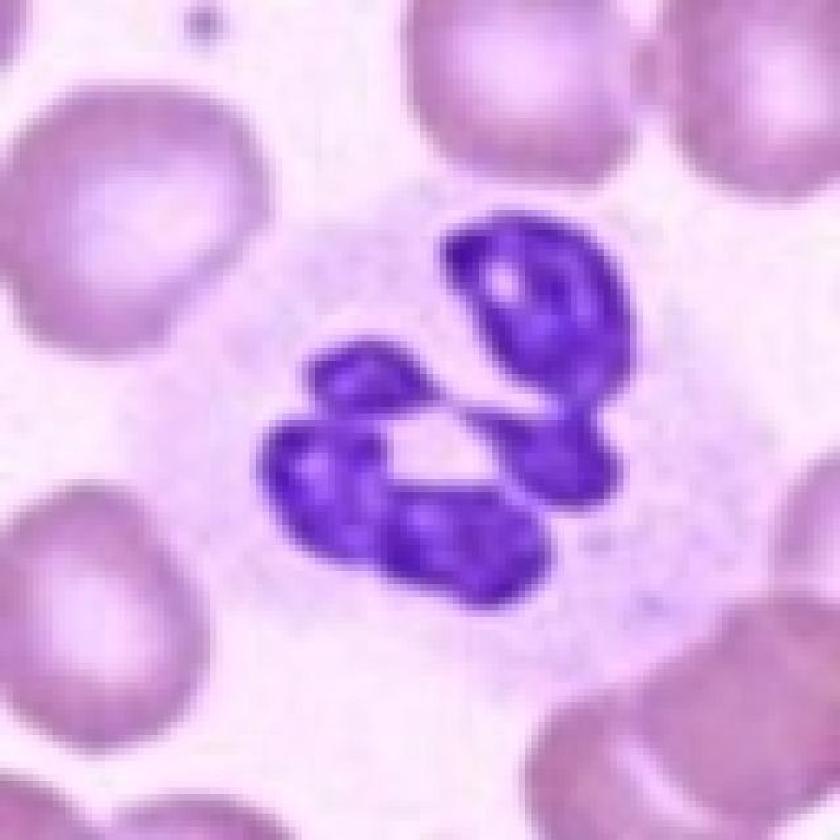neutrophil: (91, 152, 772, 762)
